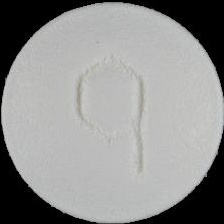0093-5455: (0, 0, 224, 224)
